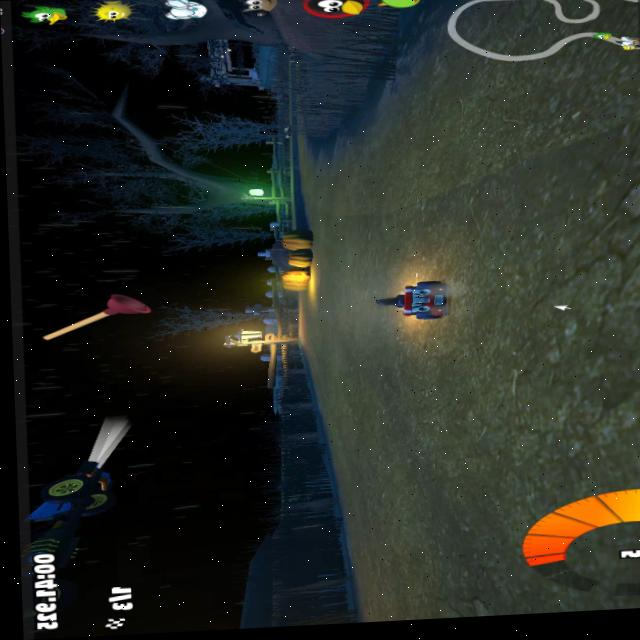player_kart: (378, 270, 456, 324)
track: (453, 0, 640, 617), (339, 323, 466, 623), (399, 47, 459, 276), (302, 144, 339, 414), (349, 99, 402, 273), (322, 145, 356, 274), (336, 278, 375, 328), (310, 137, 323, 239), (293, 134, 308, 173)
